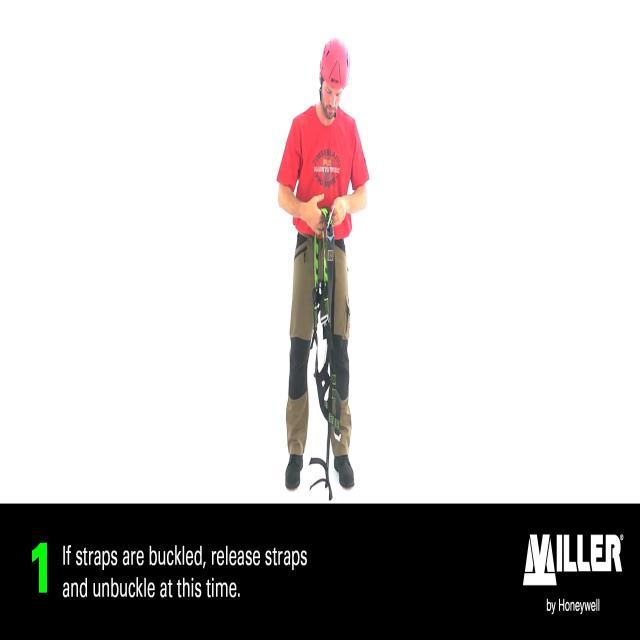belt: (309, 193, 349, 502)
